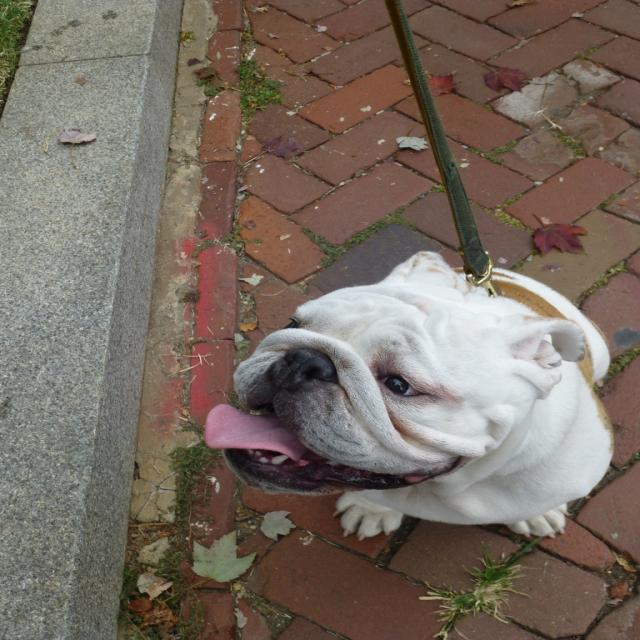Dog: (202, 249, 612, 540)
